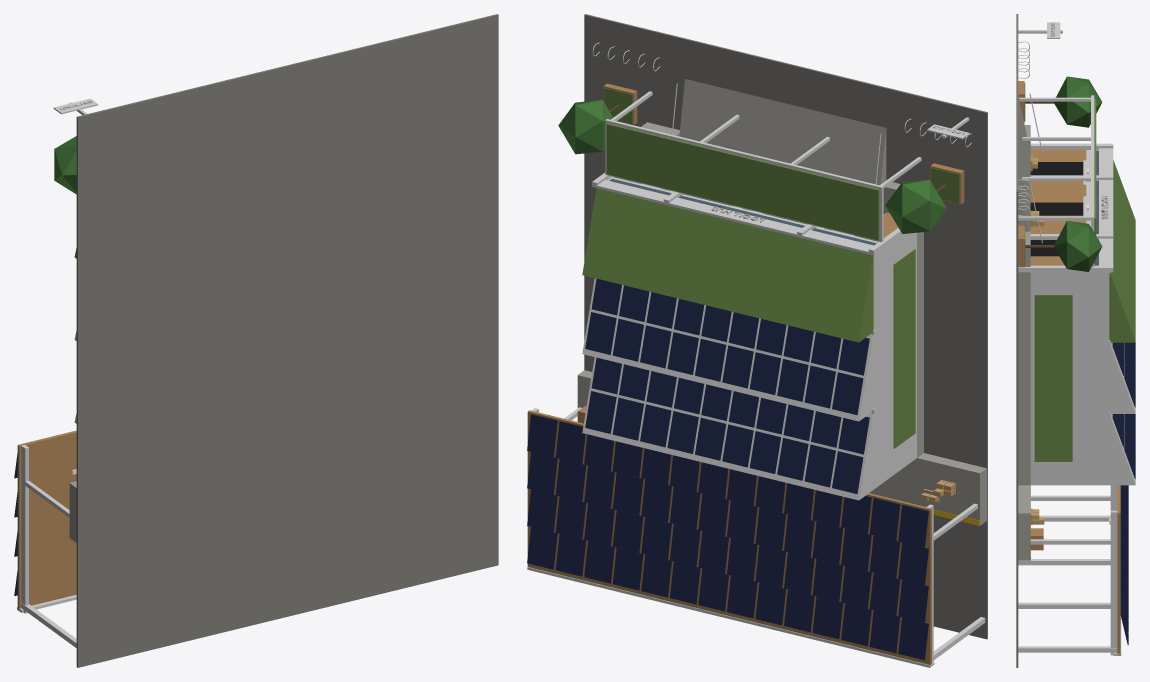
Rendered from SolarpunkLocalHub01.fbx.
3 views of the same model, side by side, from view 1: azimuth 30°, elevation 25°; view 2: azimuth 150°, elevation 25°; view 3: azimuth 270°, elevation 25° (orthographic). The views are drawn at different scales.
Parts seen in each view (by area): view 1: SolarpunkLocalHub01; view 2: SolarpunkLocalHub01; view 3: SolarpunkLocalHub01.
Part boxes in pixels (x1,y1,x2,y2): SolarpunkLocalHub01: [14, 14, 498, 667]; SolarpunkLocalHub01: [527, 14, 987, 667]; SolarpunkLocalHub01: [1016, 14, 1135, 667].
Size of the model in its own units: 3200 by 4000 by 910.
1 material, 1 textured.
